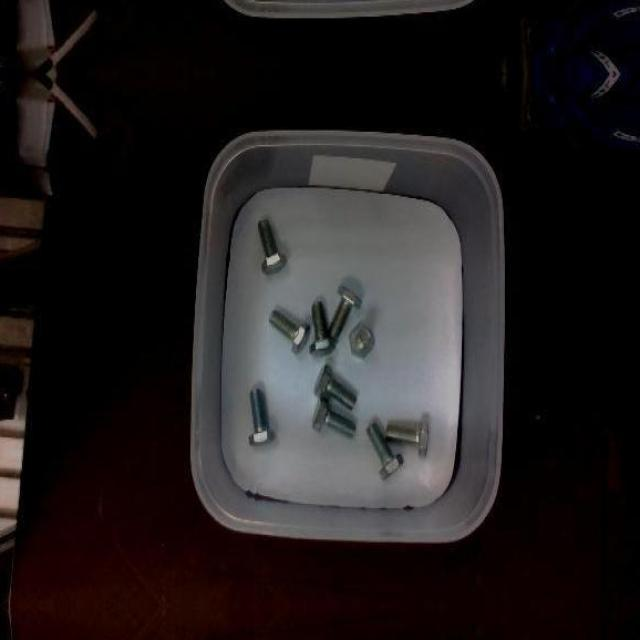screw: (367, 421, 404, 480), (312, 363, 357, 409), (311, 395, 356, 438), (268, 308, 310, 354), (328, 284, 362, 340), (257, 217, 287, 273), (386, 418, 428, 456), (248, 386, 275, 444), (310, 301, 336, 356), (348, 323, 374, 356)
